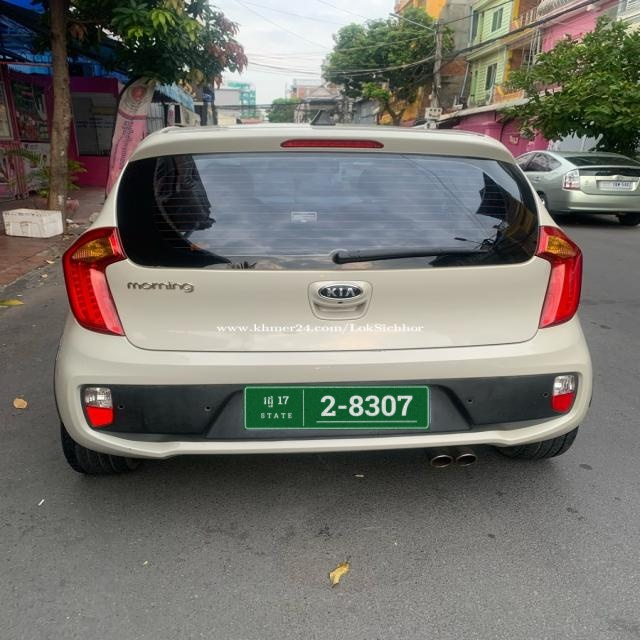Plate Number: (243, 385, 431, 430)
